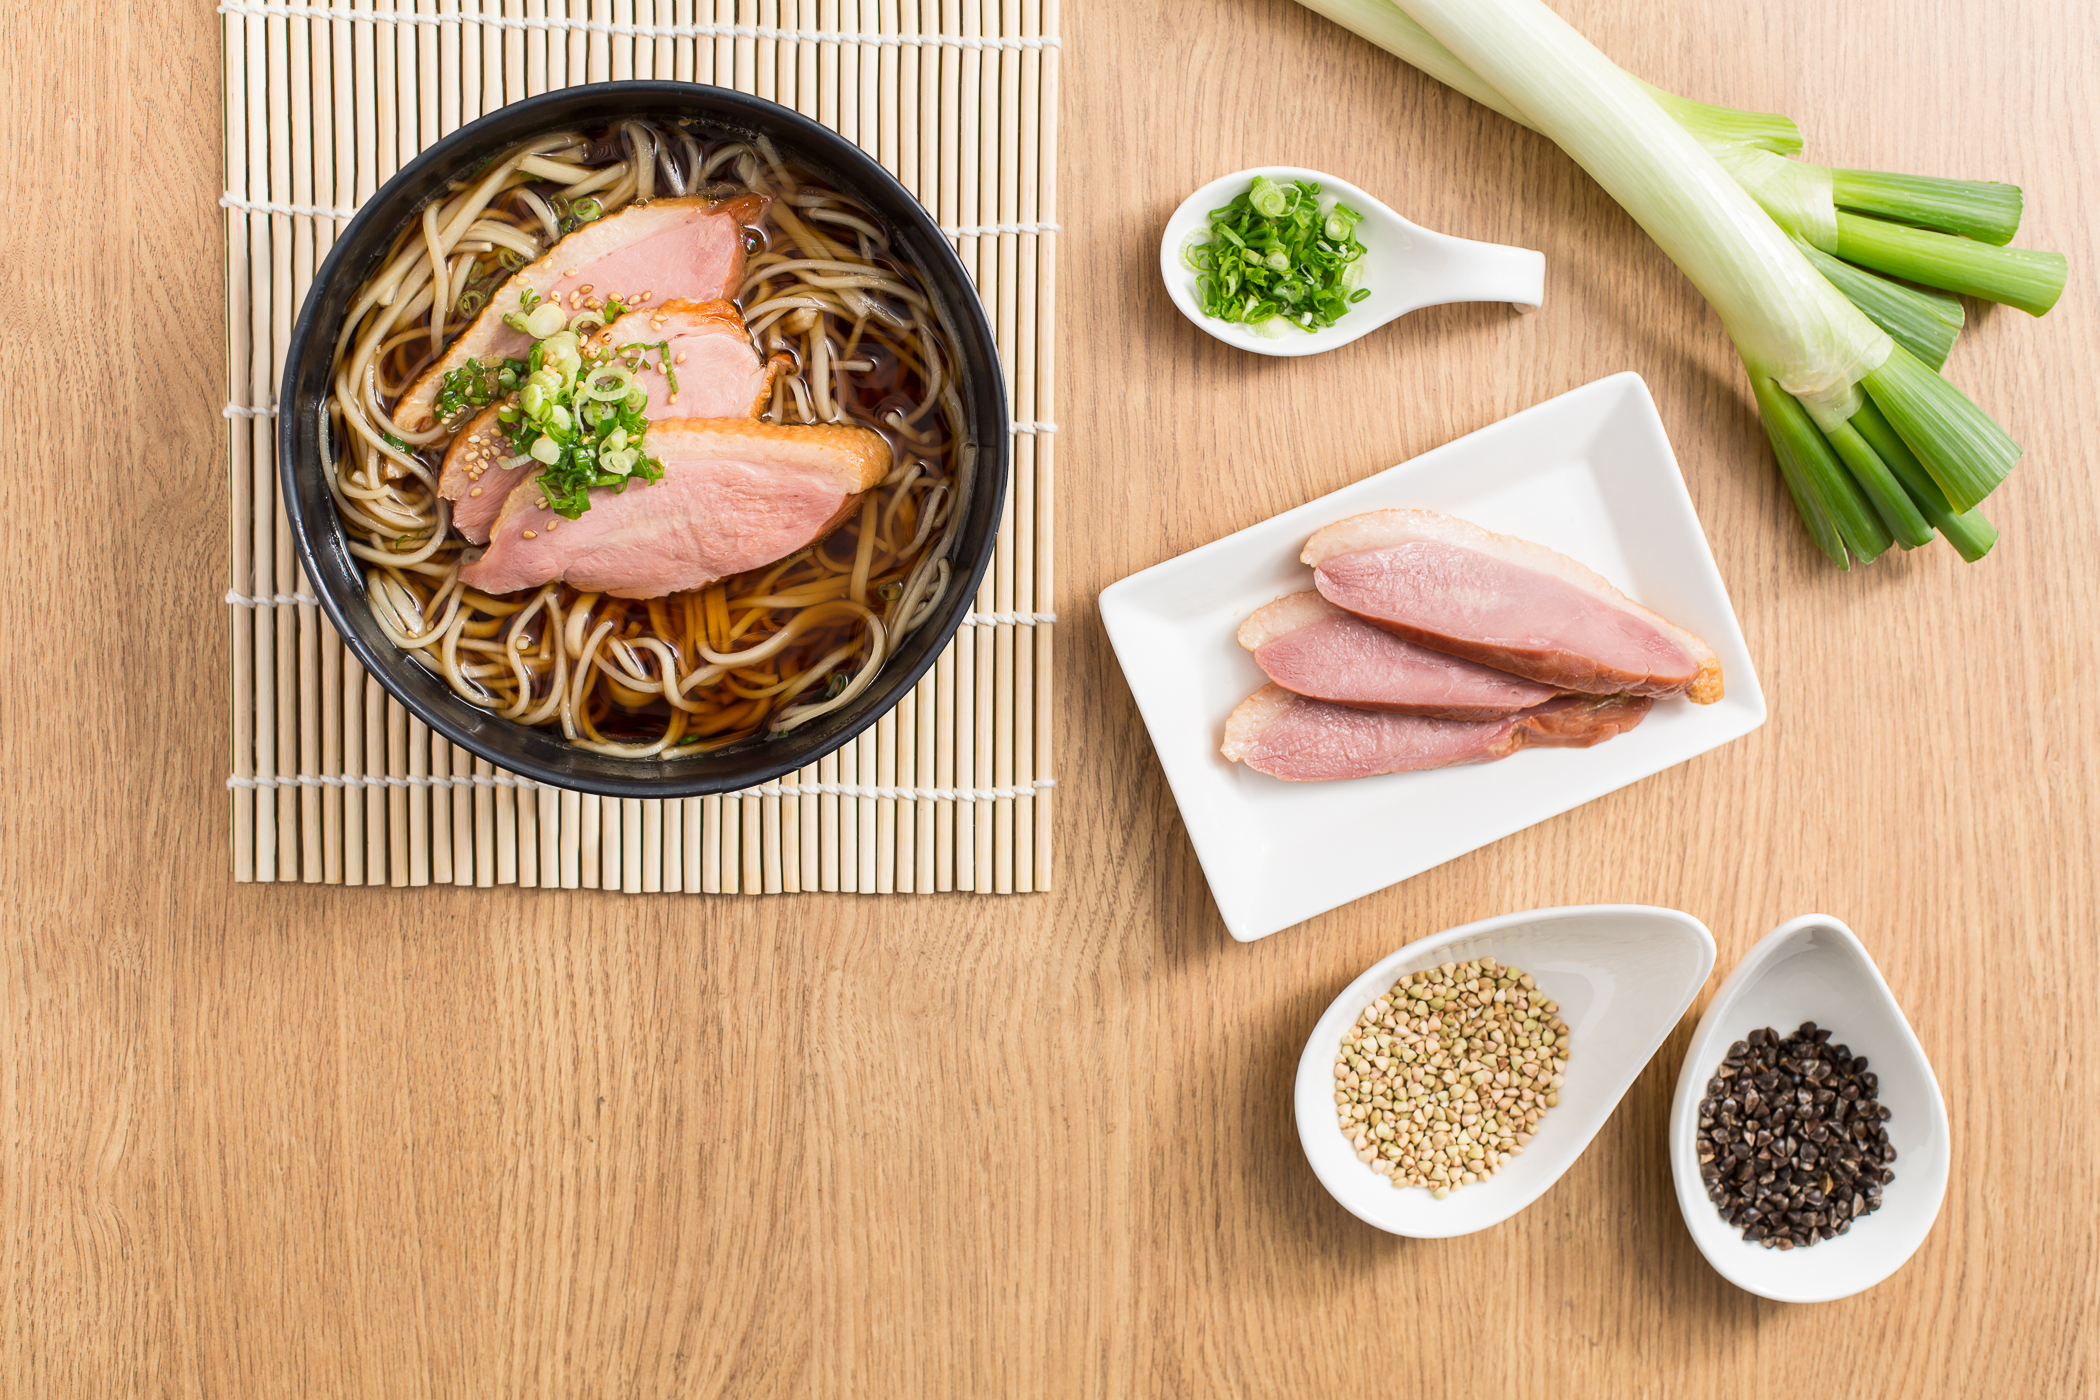Soba: (327, 100, 966, 777)
